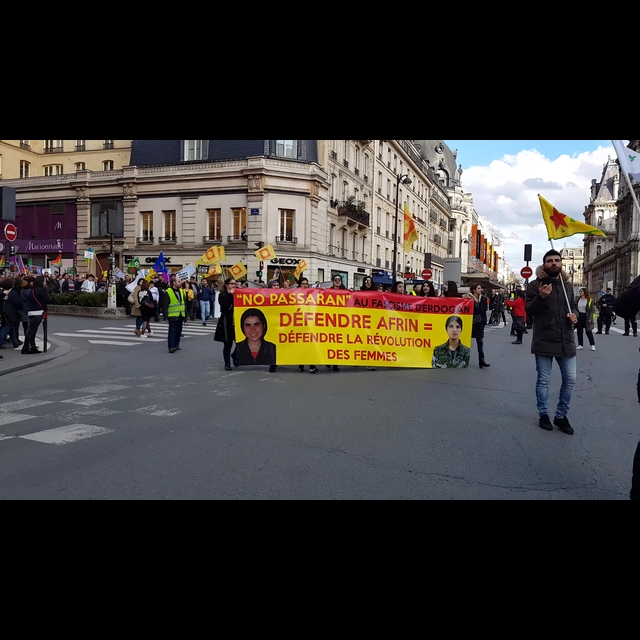YPG: (533, 191, 611, 240)
